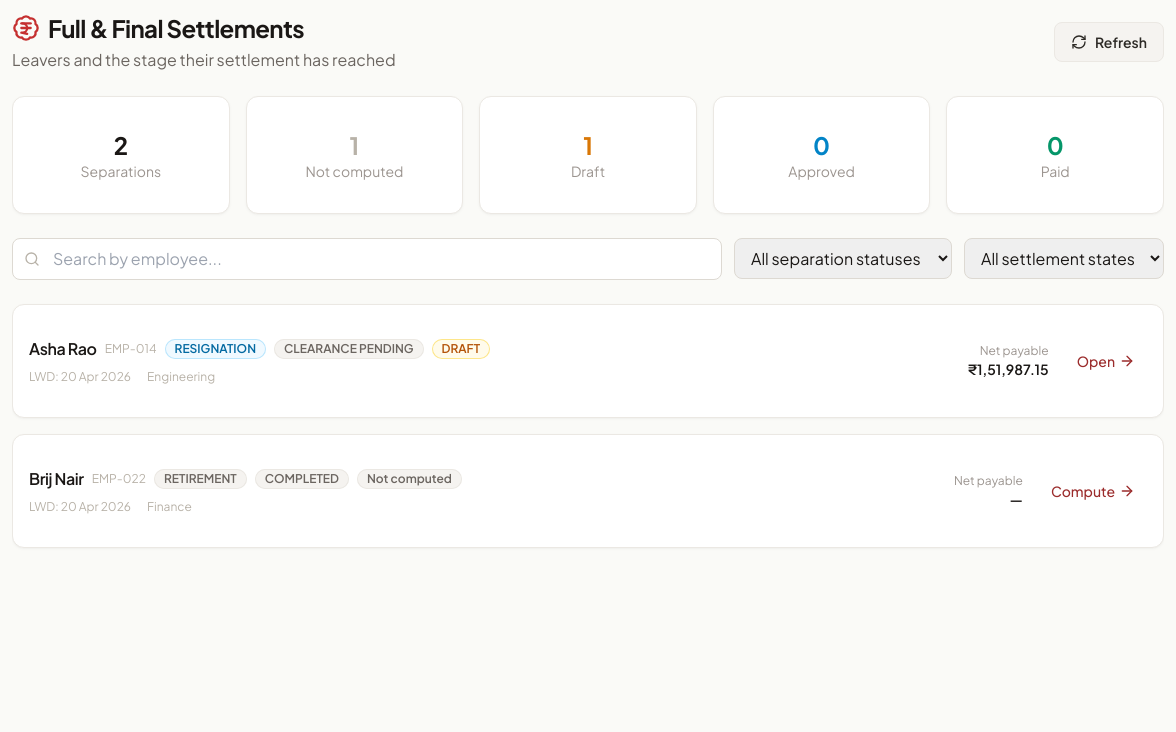
Test: SettlementsPage › filters by employee name
Expected: the element with test id "settlement-row-sep-1" is shown, [29,337,1147,385]
Type "Brij" into the field with placeholder "Search by employee..." at (367, 259), box [12,238,722,280]
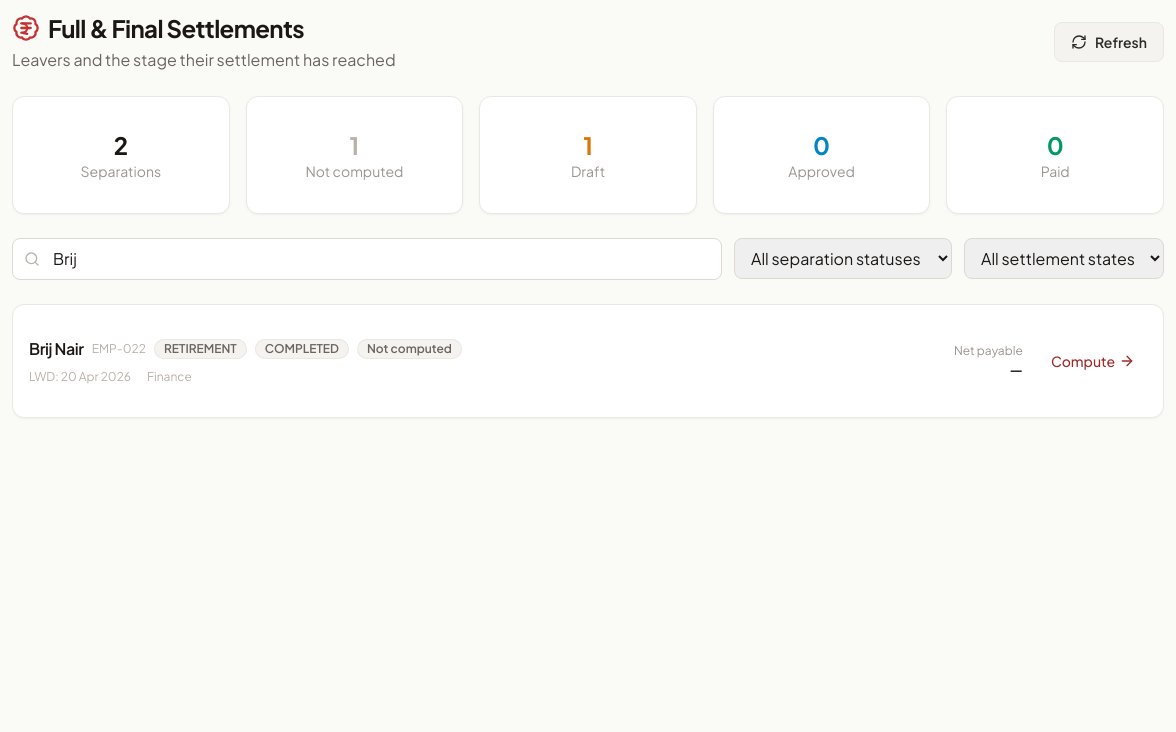
Expected: the element with test id "settlement-row-sep-2" is shown, [29,337,1147,385]
Now the element with test id "settlement-row-sep-1" is gone
